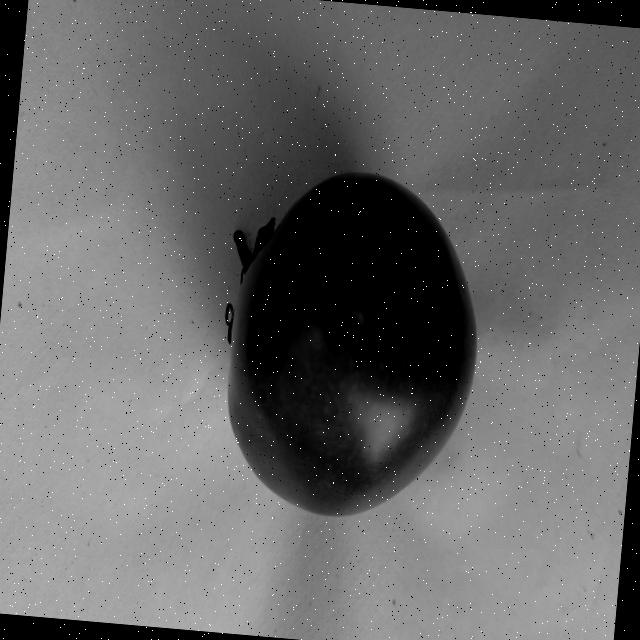Tomato: (203, 159, 493, 530)
